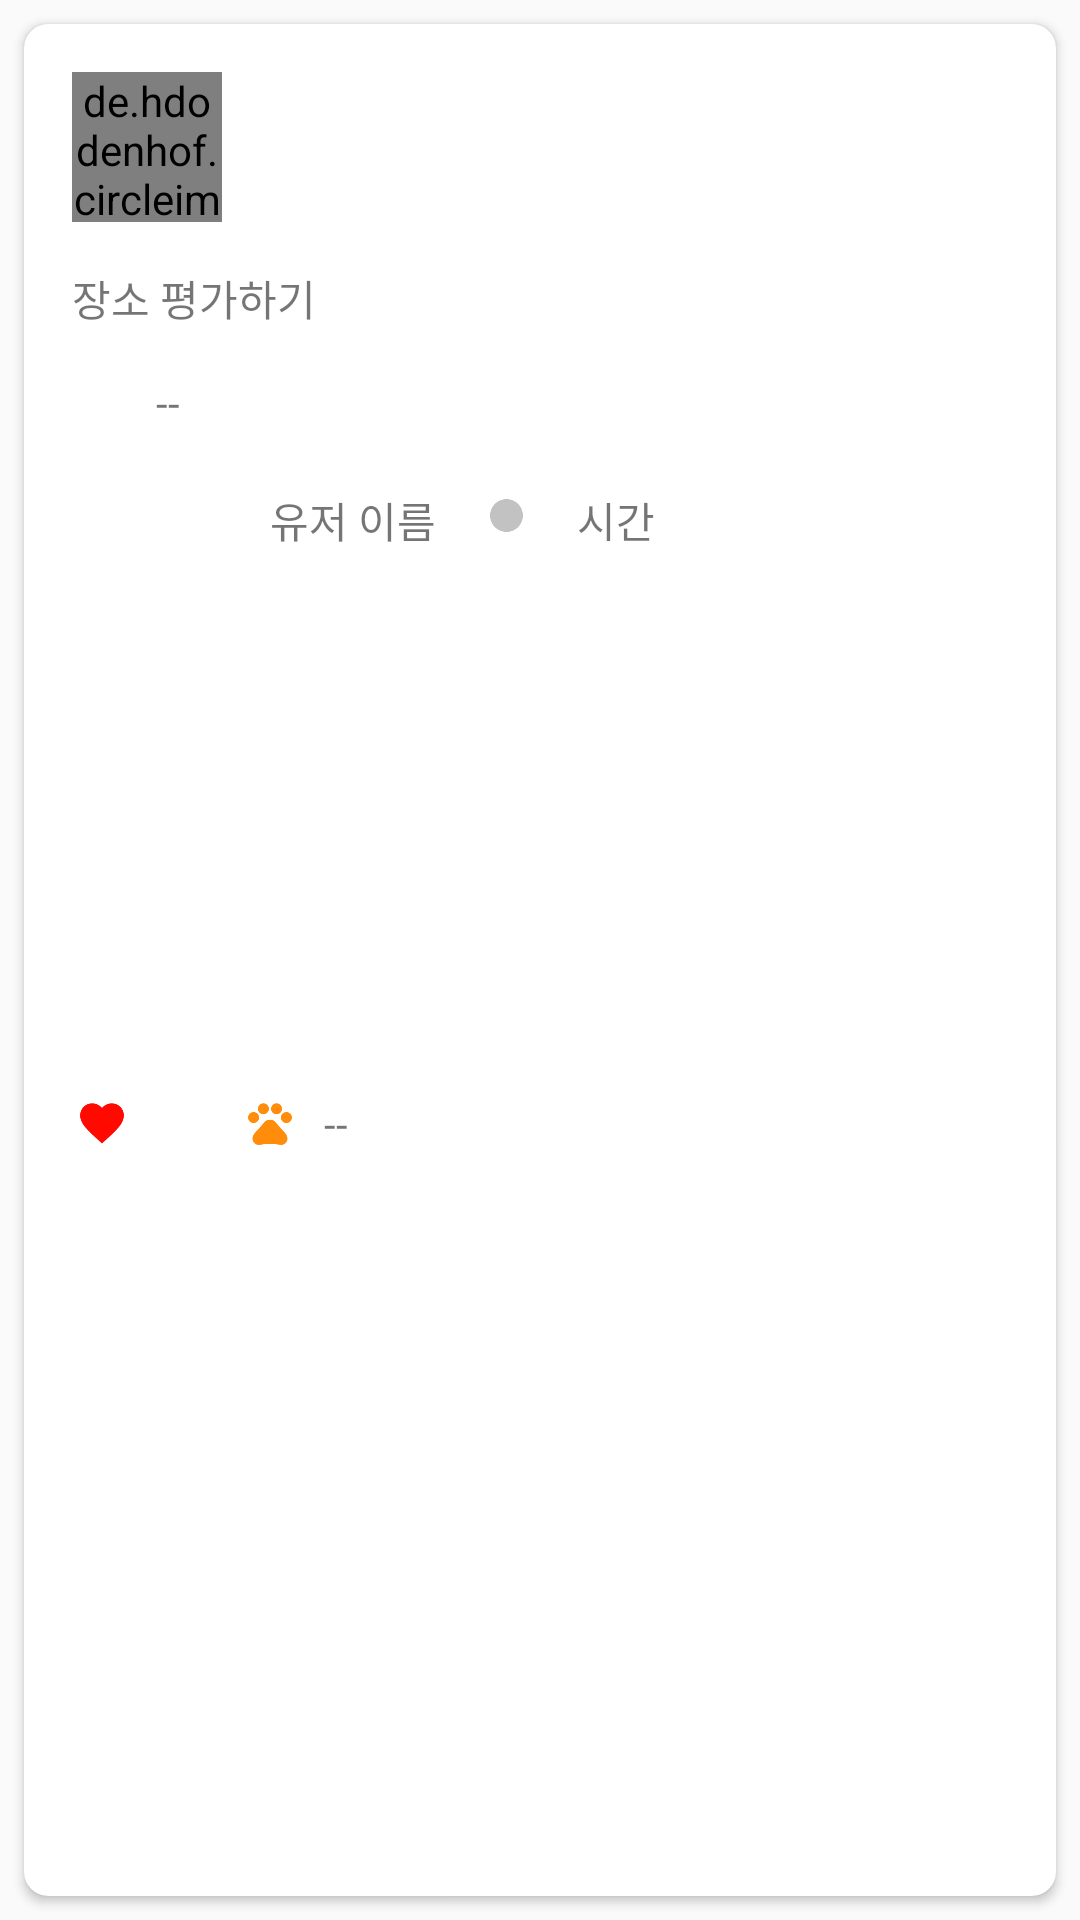

Where icons sit on this 1080px x 1920px app screen, as (x1, y1, x2, y2):
heart: (80, 1103, 124, 1143)
pet: (248, 1103, 292, 1145)
